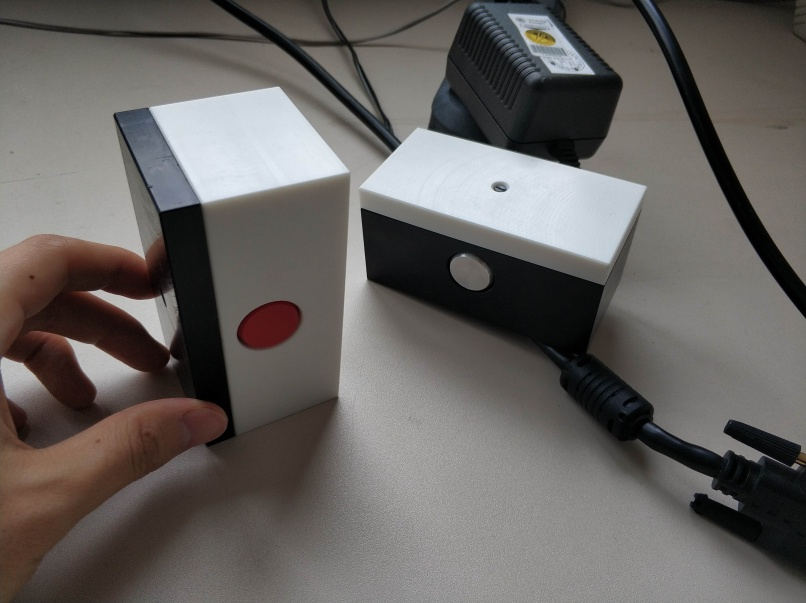black+white+red: (112, 85, 352, 449)
white+black+silver: (359, 125, 651, 355)
